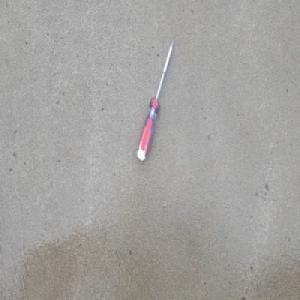Screwdriver: (136, 38, 175, 162)
